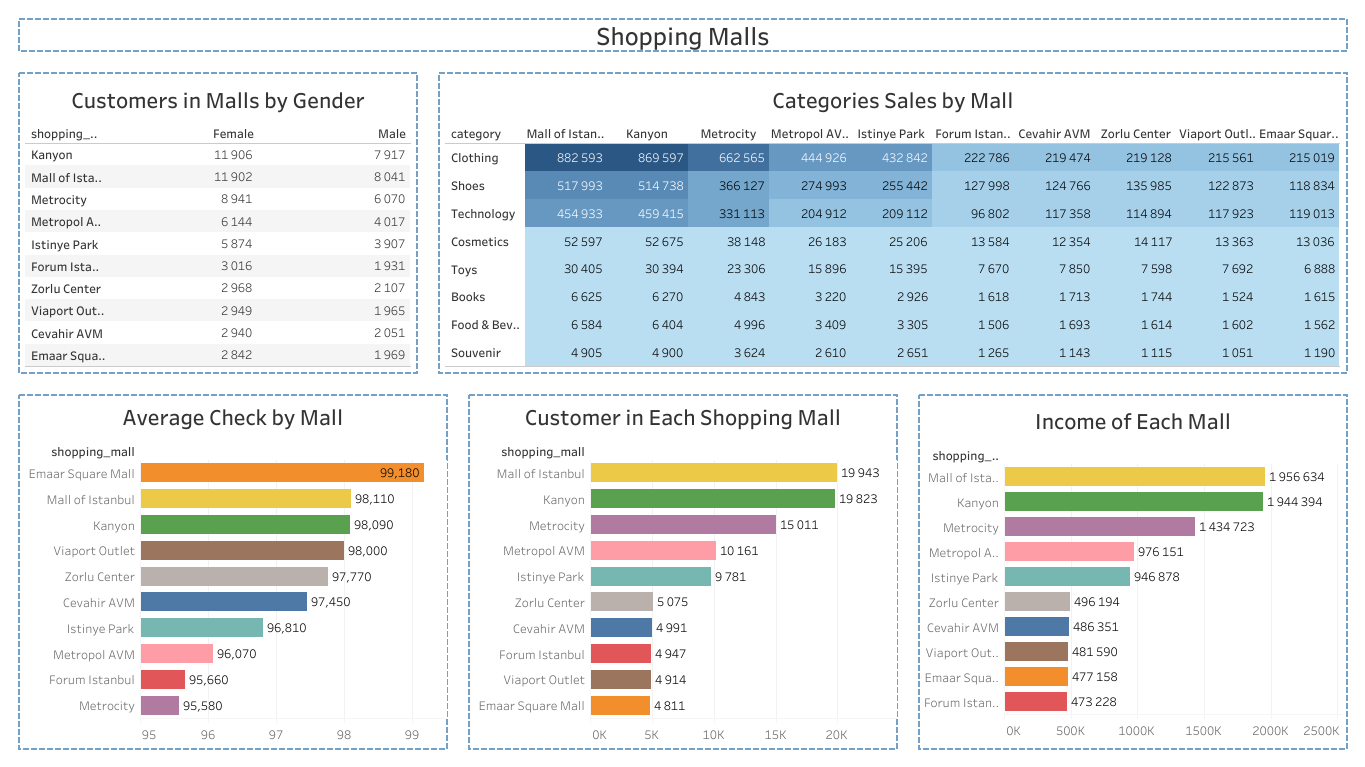

The page's visual inventory and layout, read from the dashboard file:
{"tool":"tableau","page":{"name":"Shopping Malls","canvas":[1366,768],"ordinal":4},"visuals":[{"type":"title","box":[8,8,1350,54]},{"type":"worksheet","title":"mall_gender","mark":"Automatic","rows":["shopping_mall"],"cols":["gender"],"box":[8,62,420,322.1]},{"type":"worksheet","title":"mall_categories","mark":"Square","rows":["category"],"cols":["shopping_mall"],"box":[428,62,930,322.1]},{"type":"worksheet","title":"mall_avg_check","mark":"Automatic","rows":["shopping_mall"],"cols":["Calculation_1055569032396896"],"box":[8,384.1,450,375.9]},{"type":"worksheet","title":"mall_customers","mark":"Automatic","rows":["shopping_mall"],"cols":["Calculation_1055569051930725"],"box":[458,384.1,450,375.9]},{"type":"worksheet","title":"mall_income","mark":"Automatic","rows":["shopping_mall"],"cols":["Calculation_1055569032224863"],"box":[908,384.1,450,375.9]}]}

Visuals, with their boxes in screenshot pixels (x1, y1, x2, y2), scaled from the page's 1366x768 canvas onto the 1365x767 screenshot:
title: l=8, t=8, r=1357, b=62
"mall_gender" worksheet: l=8, t=62, r=428, b=384
"mall_categories" worksheet (Square marks): l=428, t=62, r=1357, b=384
"mall_avg_check" worksheet: l=8, t=384, r=458, b=759
"mall_customers" worksheet: l=458, t=384, r=907, b=759
"mall_income" worksheet: l=907, t=384, r=1357, b=759
